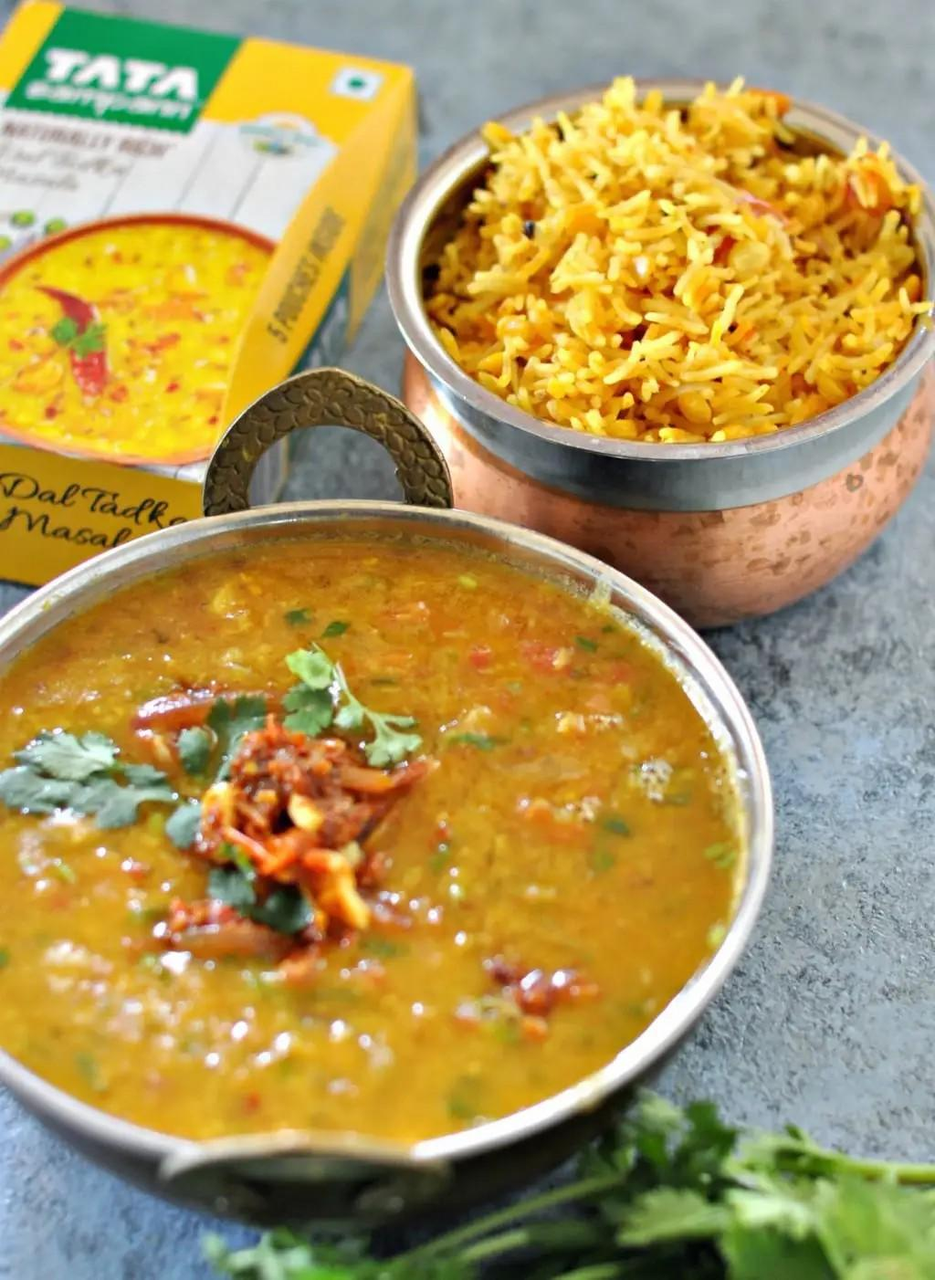Dal: (0, 527, 738, 1136)
